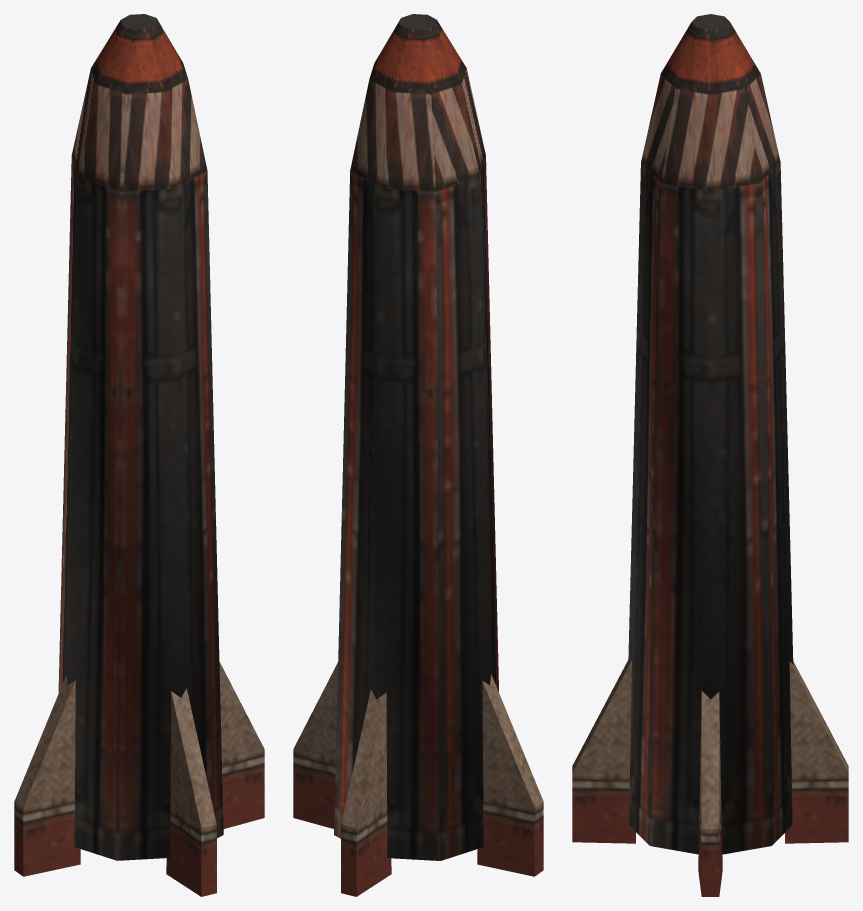
File: icbm.dae
3 renders of one model, left to right at view 1: azimuth 30°, elevation 25°; view 2: azimuth 150°, elevation 25°; view 3: azimuth 270°, elevation 25°, orthographic.
Visible parts, largest first — view 1: icbm; view 2: icbm; view 3: icbm.
Boxes of the visible parts, bbox=[...] form: icbm: bbox=[14, 14, 264, 896]; icbm: bbox=[293, 14, 543, 896]; icbm: bbox=[572, 14, 848, 896].
Bounding box in the file's own units: 5.06 × 5.06 × 16.48.
